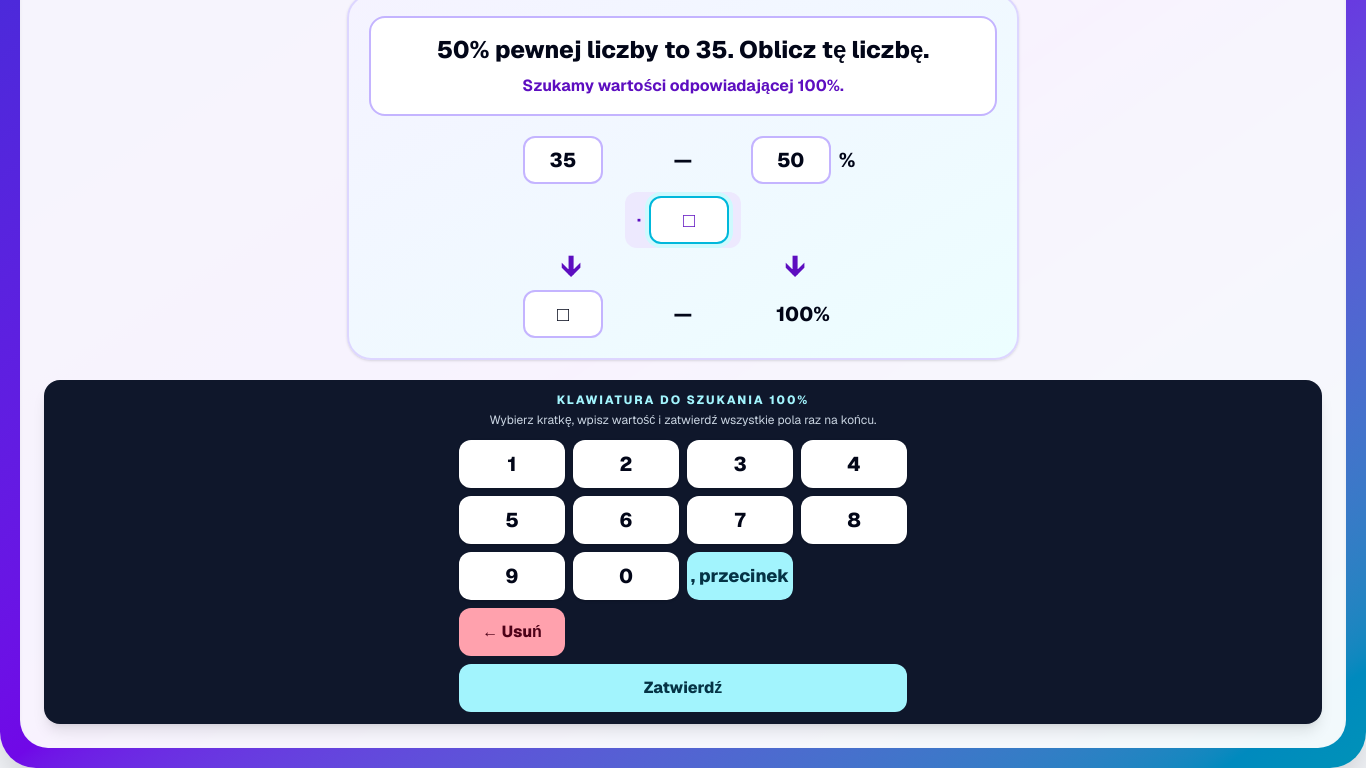
Test: WholeFromPercentLab › nie przepuszcza pustego zadania
(page scrolled)
Click the button "Zatwierdź". click: click(683, 688)
box: [459,664,907,712]
(page scrolled)
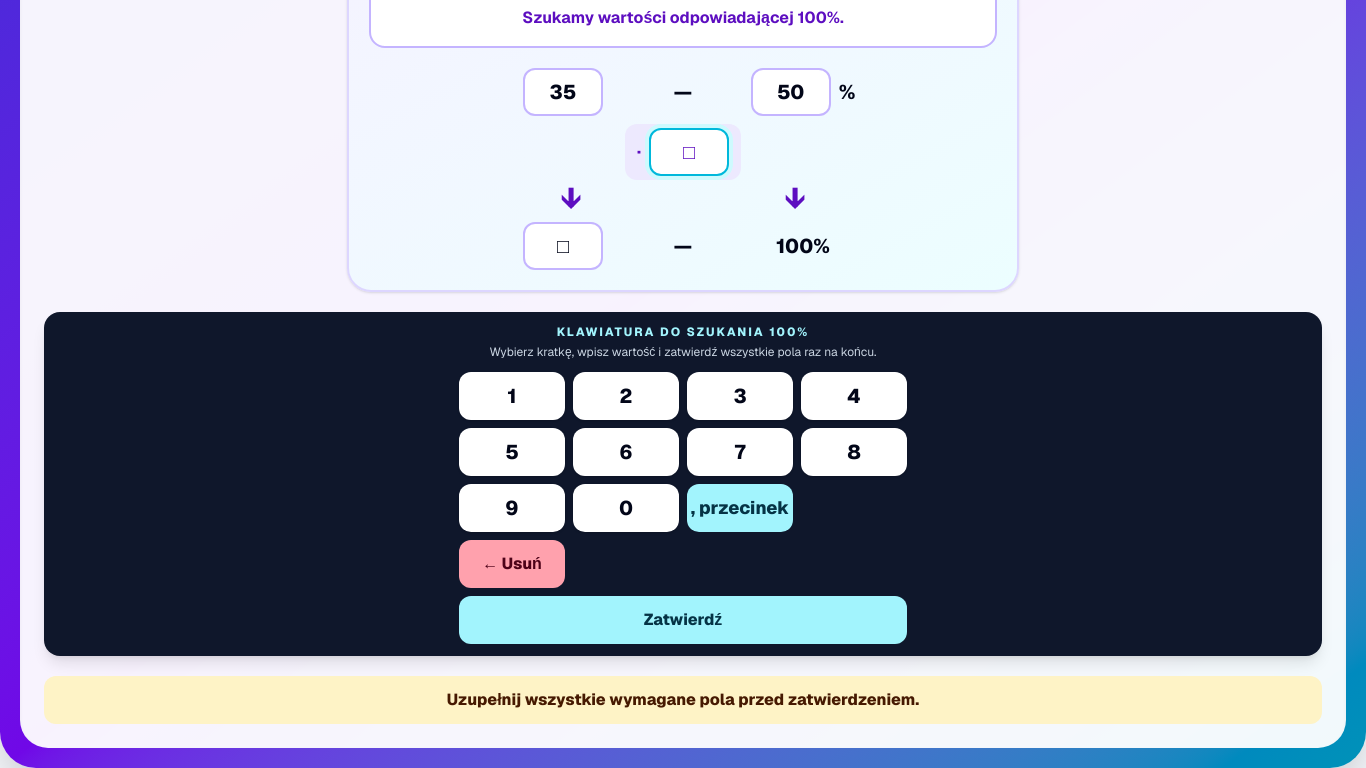
Check: the message shows "Uzupełnij wszystkie wymagane pola", box [447,689,919,710]
